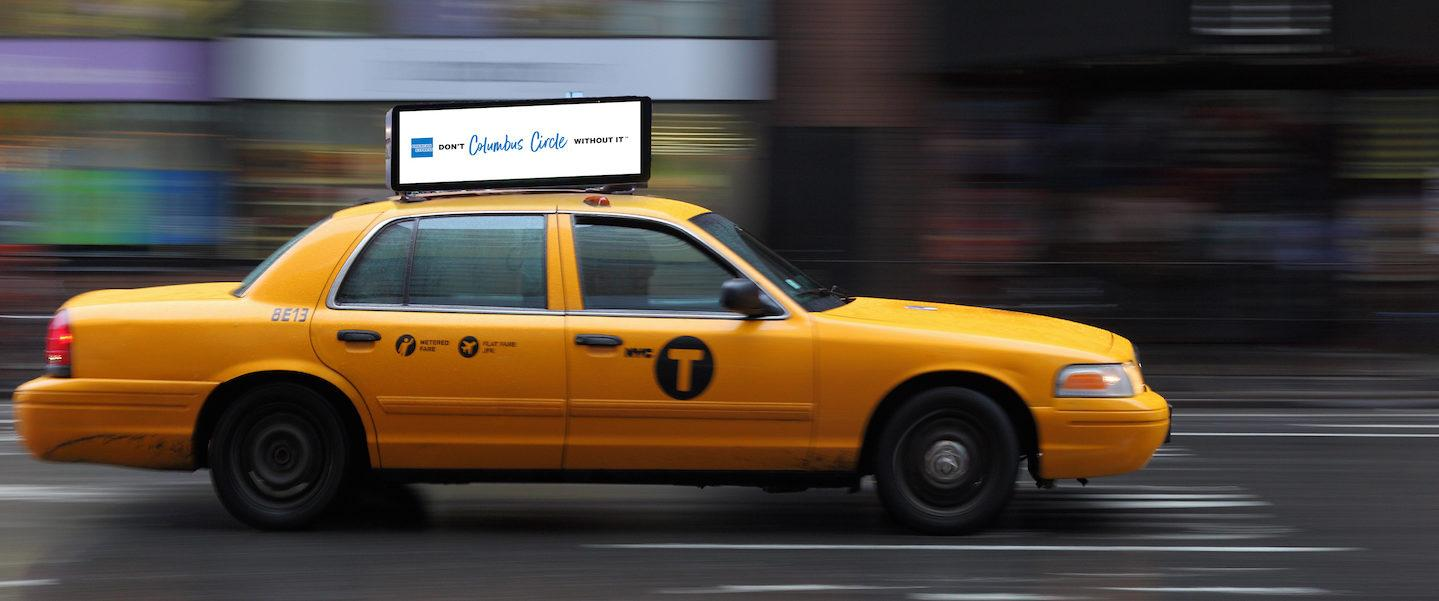taxi: (1, 158, 1229, 528)
